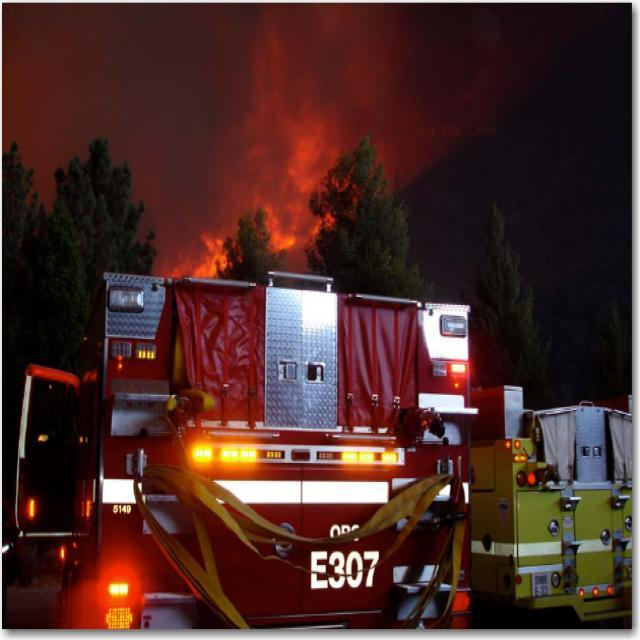Smoke: (224, 0, 412, 246)
